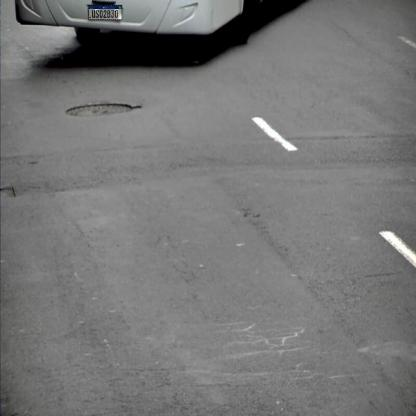PlacaM: (88, 5, 122, 20)
